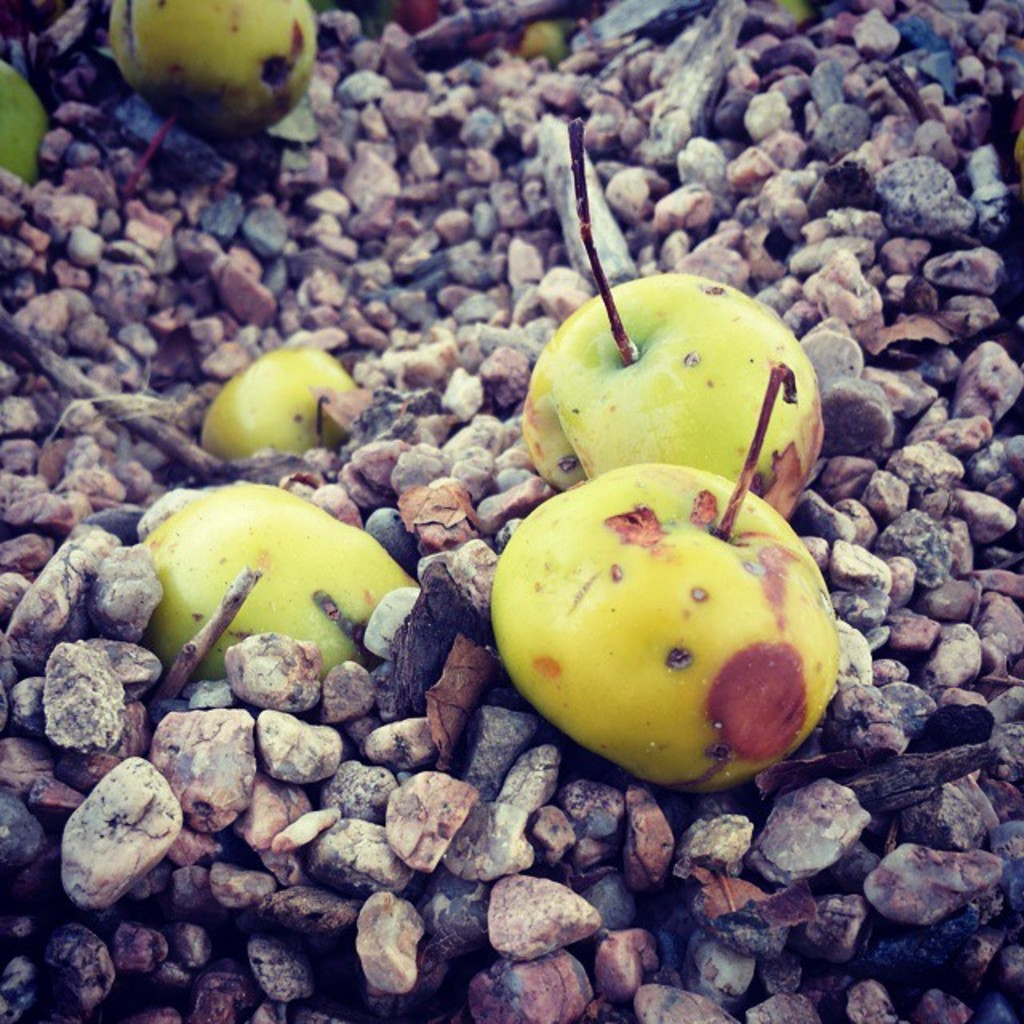Apple: (512, 120, 824, 518), (502, 457, 820, 782), (145, 489, 422, 689), (110, 0, 321, 140), (199, 348, 359, 457), (0, 56, 49, 188)
